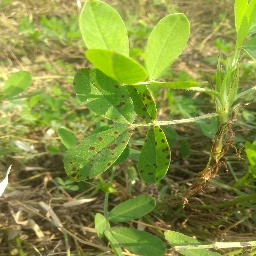GroundNut_Leaf: (61, 127, 128, 181), (72, 65, 135, 122), (146, 12, 195, 82), (76, 1, 131, 55), (136, 128, 174, 187), (107, 192, 161, 223), (107, 227, 167, 253), (2, 71, 34, 99)
